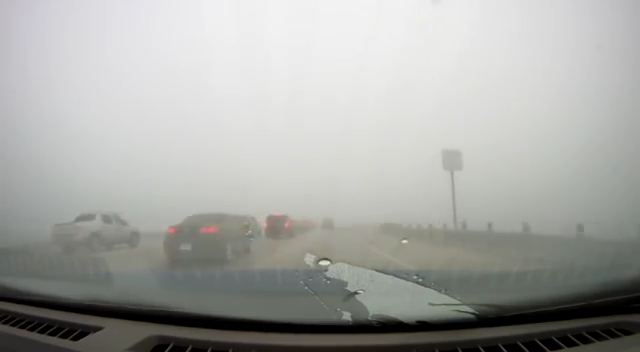car: (163, 213, 252, 263), (52, 210, 140, 252), (264, 213, 295, 237), (234, 213, 263, 235), (320, 218, 335, 229)
